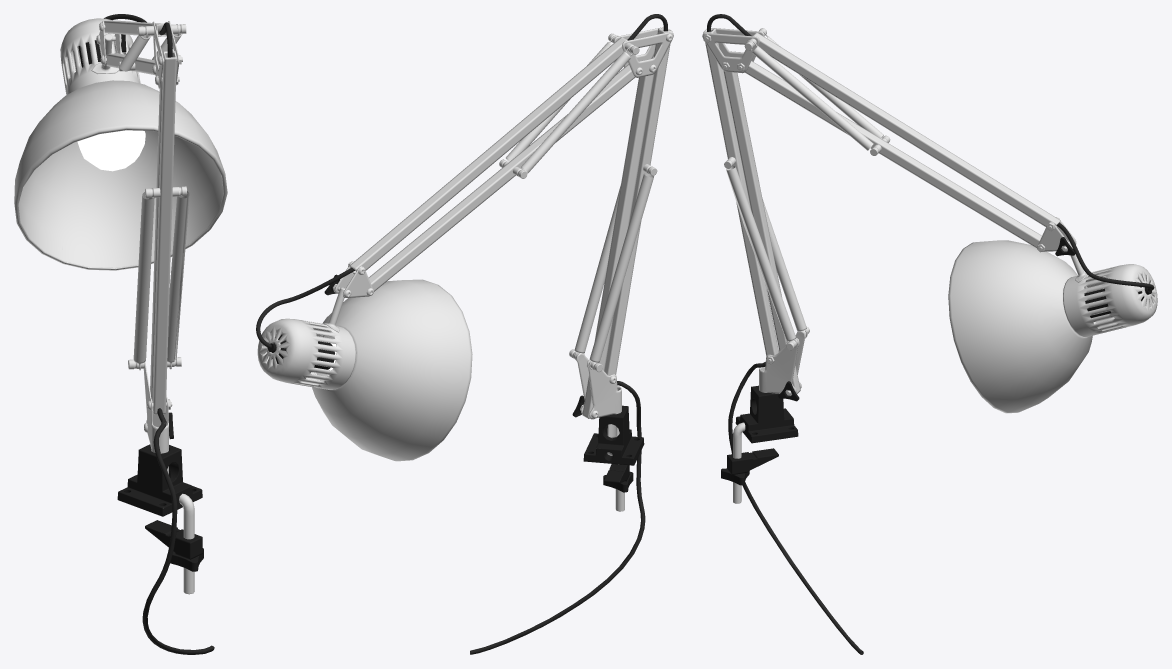
Rendered from Lamp1.fbx.
3 renders of one model, left to right at view 1: azimuth 30°, elevation 25°; view 2: azimuth 150°, elevation 25°; view 3: azimuth 270°, elevation 25°, orthographic. The views are drawn at different scales.
Visible parts, largest first — view 1: Table_lamp; view 2: Table_lamp; view 3: Table_lamp.
Boxes of the visible parts, x1=… form: Table_lamp: x1=14, y1=14, x2=227, y2=654; Table_lamp: x1=256, y1=14, x2=673, y2=654; Table_lamp: x1=702, y1=14, x2=1157, y2=654.
Bounding box in the file's own units: 0.2201 × 0.6565 × 0.46.
